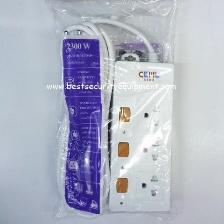three_eye_plug: (105, 56, 176, 217)
